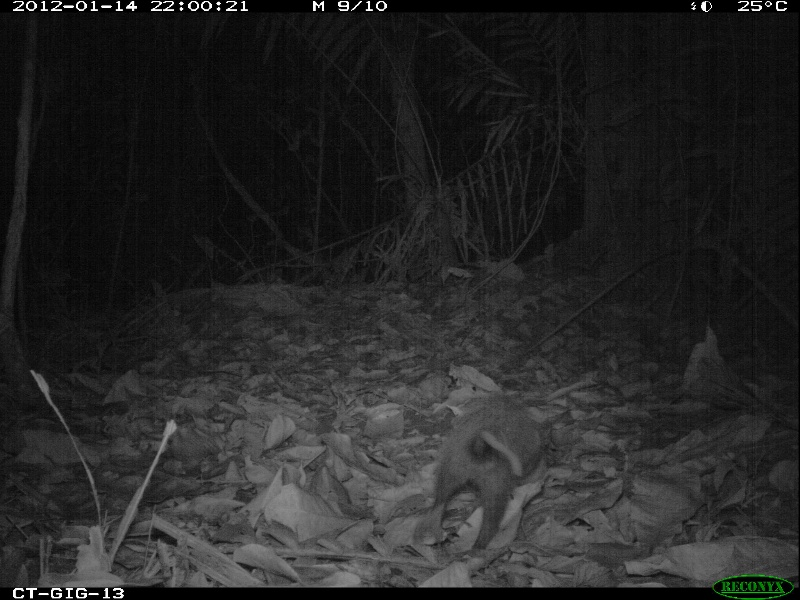opossum: (425, 389, 551, 566)
